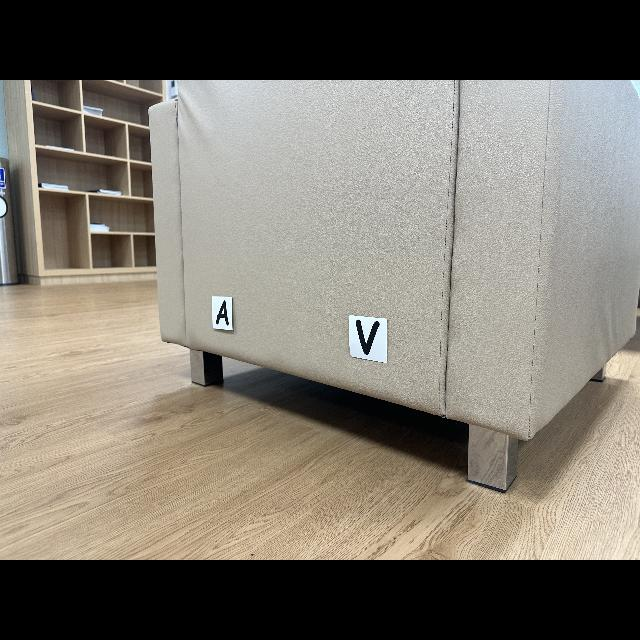A: (216, 300, 229, 325)
V: (356, 320, 380, 355)
